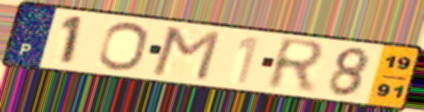1: (56, 14, 86, 66), (235, 36, 261, 86)
8: (326, 46, 374, 98)
M: (148, 25, 224, 83)
O: (95, 21, 150, 73)
R: (263, 35, 329, 96)
